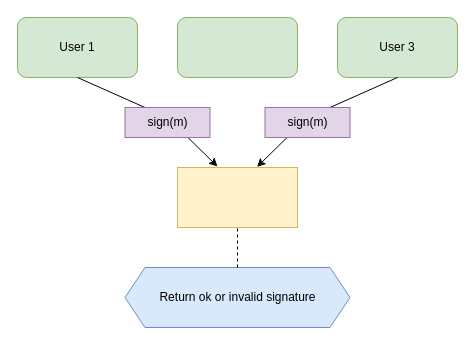
Some shapes in this 475 by 345 pixel diagram are drawn without their labels. The shapes that lost their labels are listed below. From the top down, each one's centre as x and y in pixels, then its label:
At point (237, 47): "User 2".
At point (237, 197): "Trusted Coordinator".
